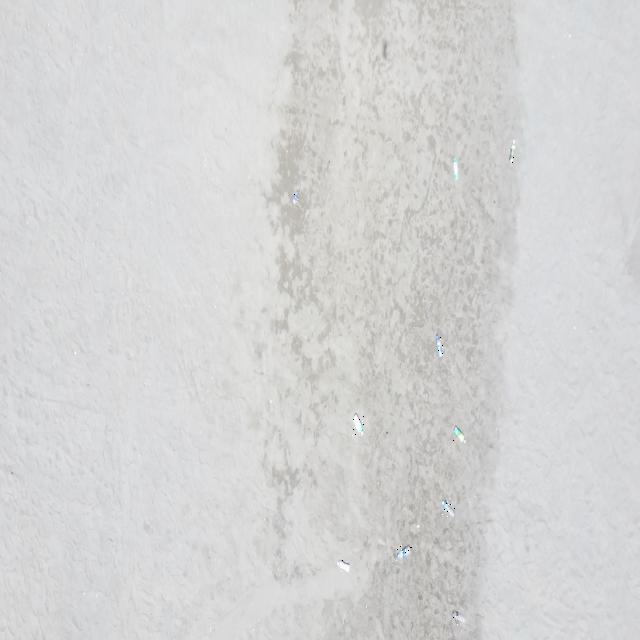Garbage: (452, 424, 464, 442), (395, 546, 411, 559), (440, 500, 453, 515), (435, 335, 444, 356), (353, 413, 362, 433), (508, 139, 515, 163), (452, 609, 464, 623), (336, 560, 348, 572), (452, 156, 457, 180), (291, 191, 299, 203), (409, 524, 420, 532)
